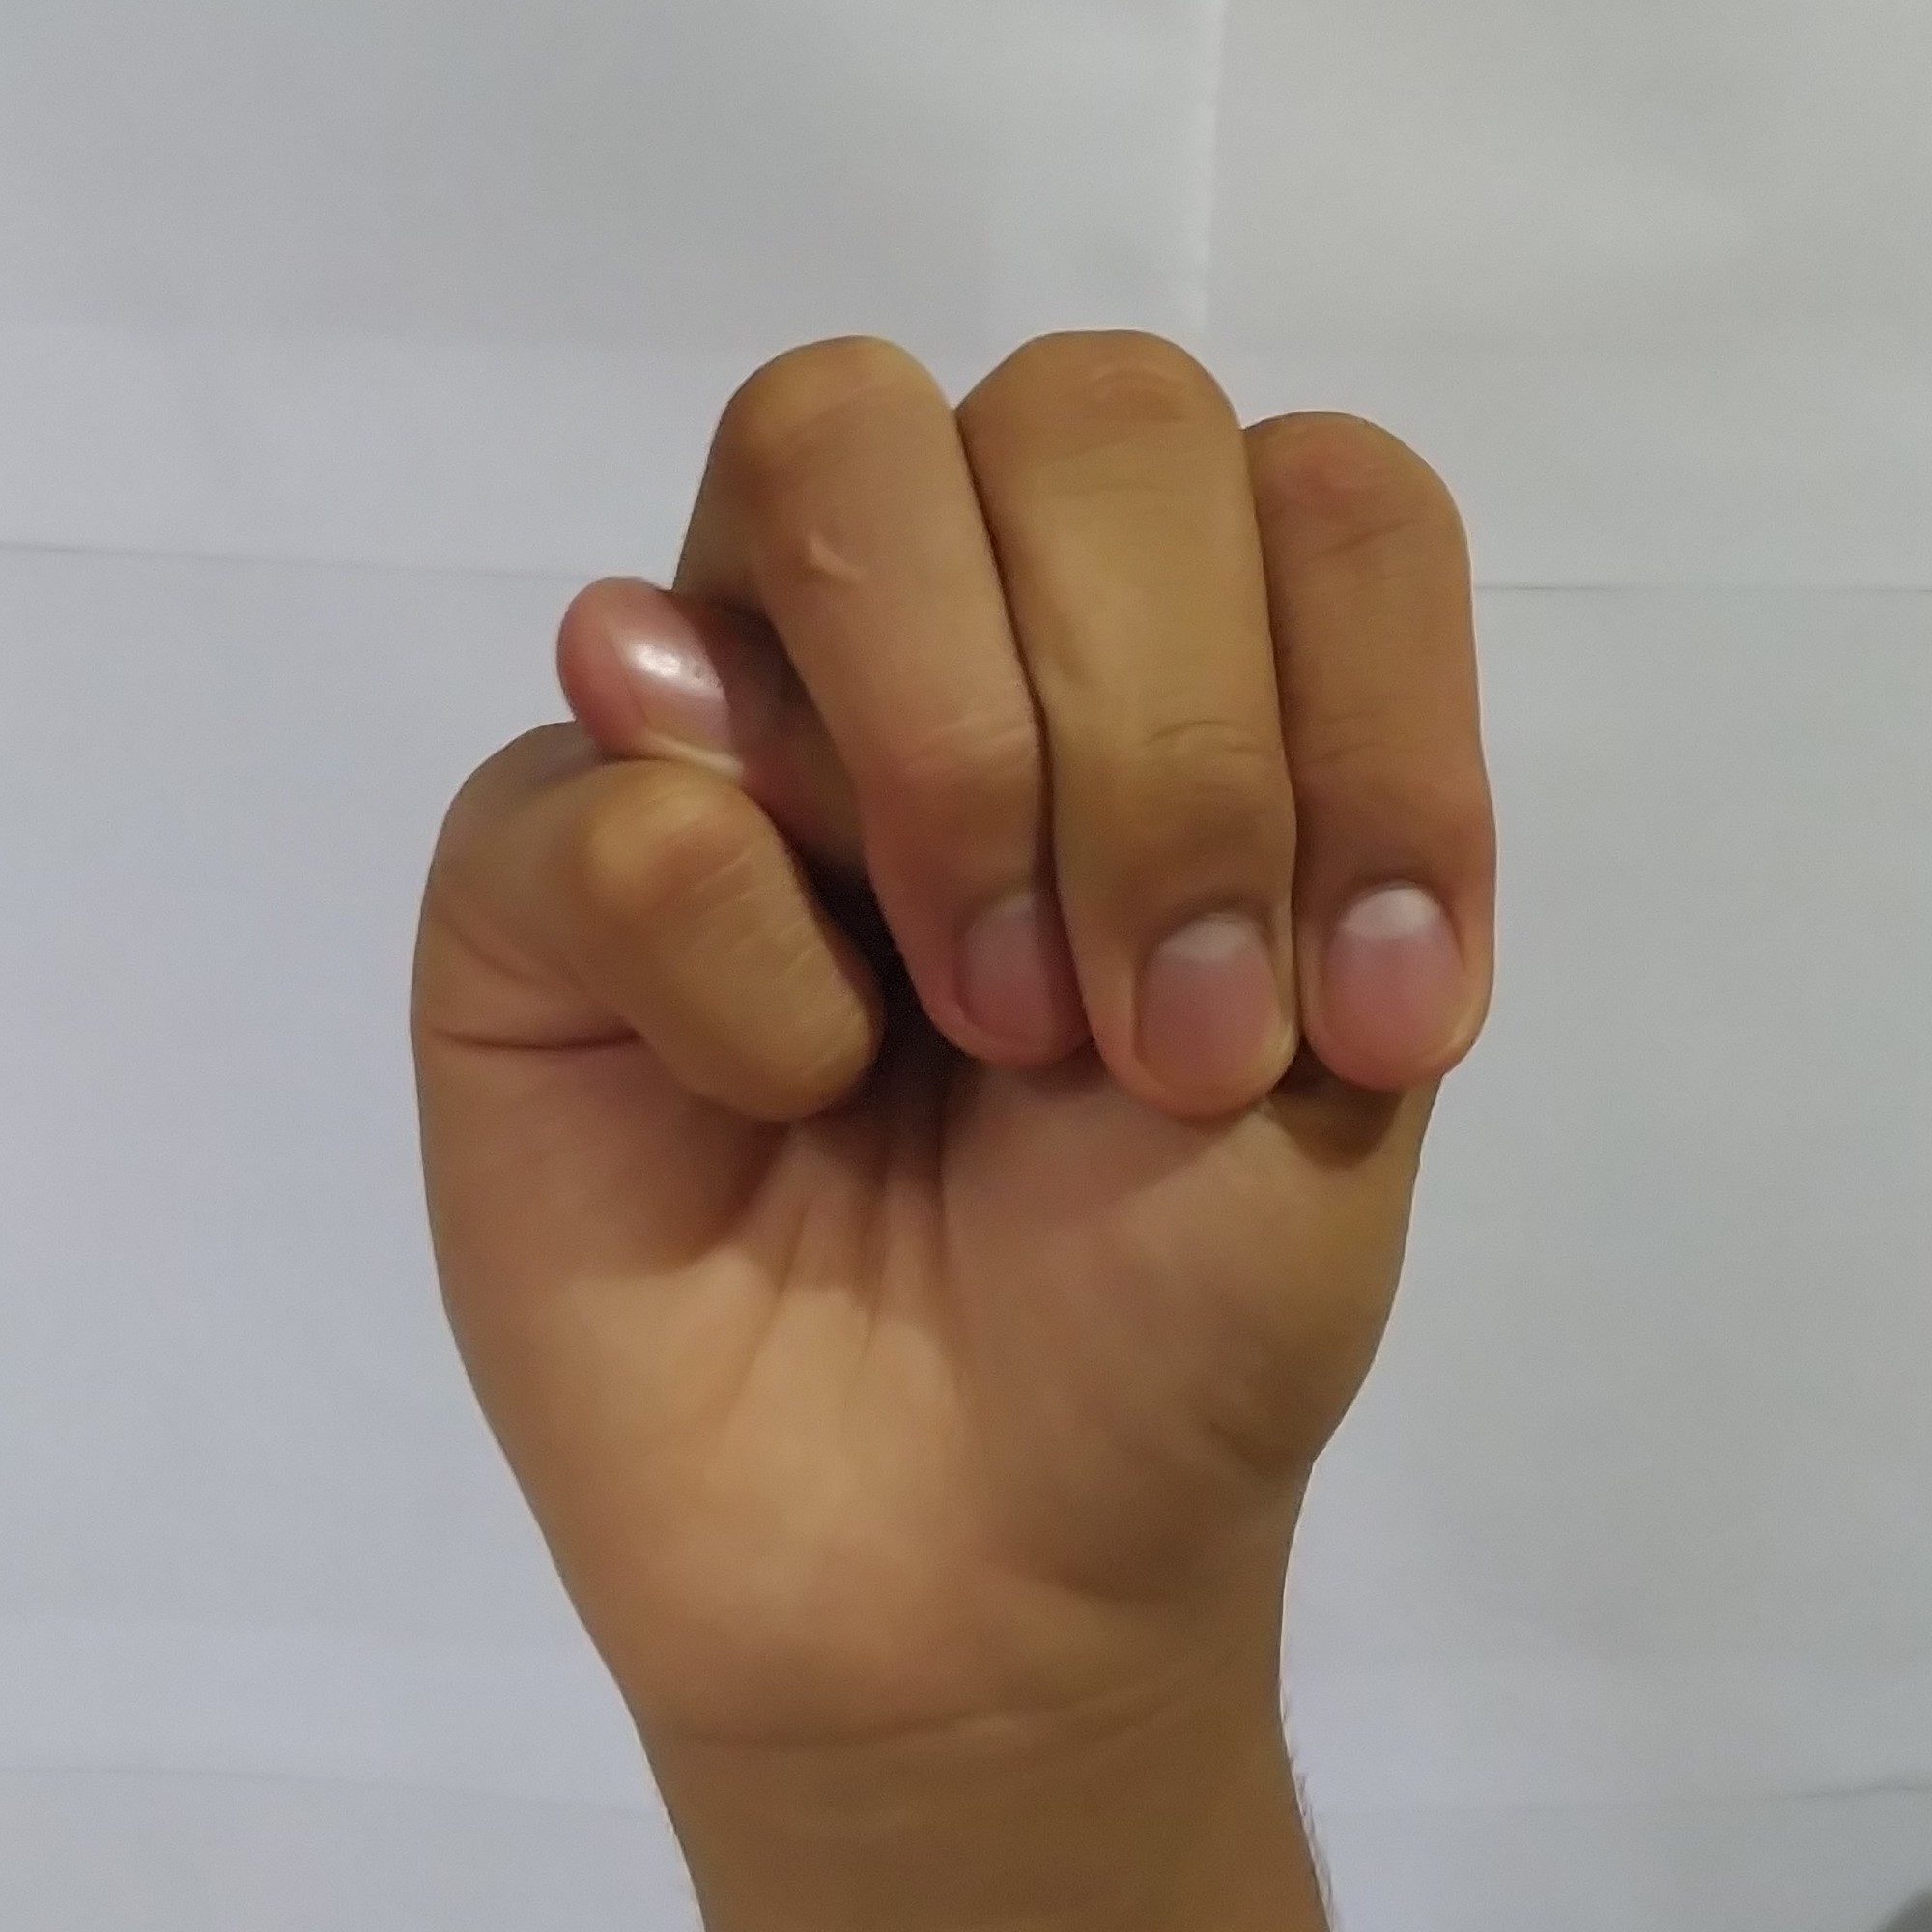M: (375, 294, 1532, 1713)
